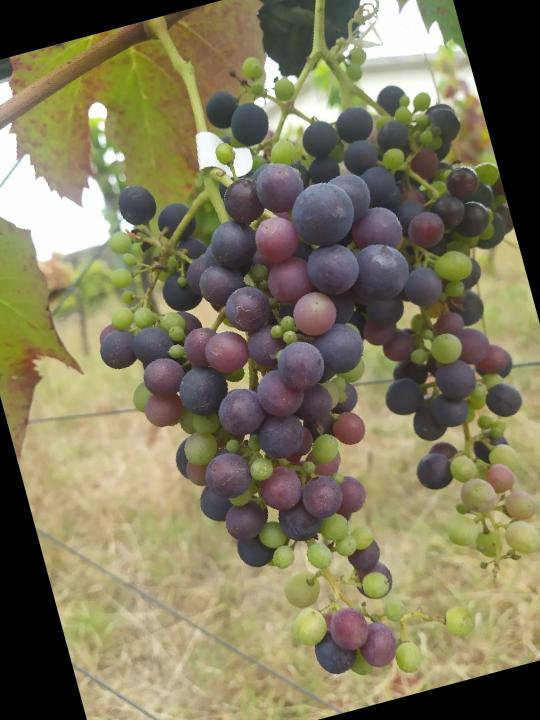grape: (38, 50, 518, 720)
